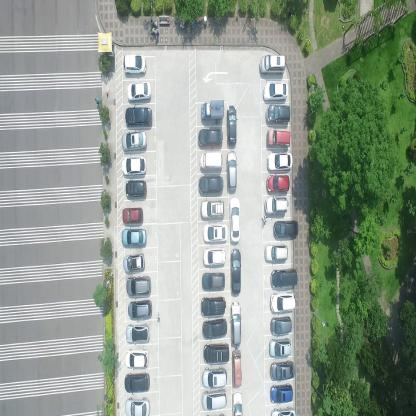car: (269, 268, 298, 290), (260, 53, 285, 78), (202, 316, 228, 340), (203, 342, 229, 365), (126, 81, 152, 104), (123, 372, 150, 394), (229, 196, 241, 245), (125, 107, 153, 128), (265, 104, 291, 126), (266, 150, 292, 172), (273, 219, 299, 241), (200, 198, 226, 220), (200, 296, 226, 318), (201, 366, 227, 388), (201, 388, 227, 410), (122, 130, 148, 152), (230, 299, 241, 350), (200, 99, 224, 122), (202, 246, 226, 269), (123, 54, 147, 77), (125, 323, 150, 345), (269, 360, 295, 381), (126, 276, 152, 297), (269, 292, 296, 312), (122, 156, 146, 178), (125, 348, 149, 370), (198, 175, 223, 196), (202, 223, 227, 244), (230, 248, 241, 295), (122, 253, 145, 275), (264, 195, 288, 216), (199, 150, 223, 171), (128, 299, 152, 320), (263, 82, 288, 102), (122, 228, 147, 248), (125, 396, 151, 415), (269, 336, 291, 358), (126, 178, 148, 200), (266, 128, 290, 148), (226, 103, 237, 145), (266, 175, 290, 194), (201, 272, 225, 291), (198, 129, 223, 147), (271, 383, 293, 403), (264, 244, 288, 262), (227, 150, 237, 193), (270, 316, 292, 335), (122, 206, 144, 225), (232, 349, 242, 387), (232, 390, 244, 415), (270, 405, 296, 415)
